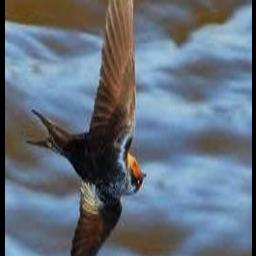Swallow: (27, 0, 147, 256)
